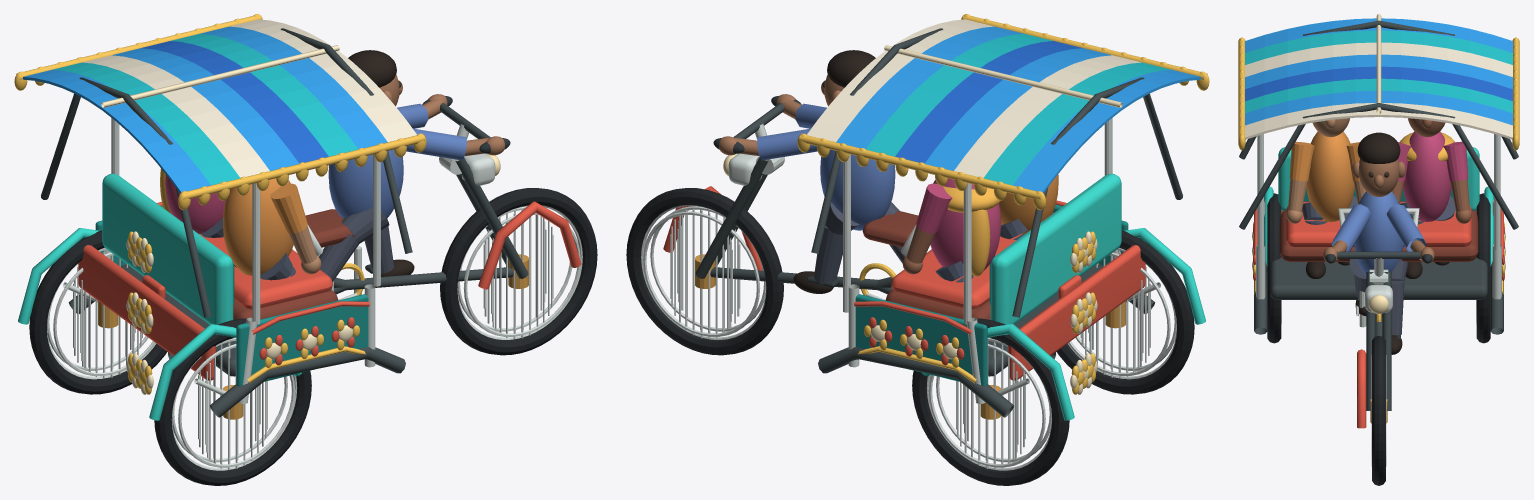
The model's file is cycle-rickshaw.glb.
3 views of the same model, side by side, from view 1: azimuth 30°, elevation 25°; view 2: azimuth 150°, elevation 25°; view 3: azimuth 270°, elevation 25° (orthographic). The views are drawn at different scales.
Visible parts, largest first — view 1: Rickshaw_Canopy blue, Rickshaw_Hand-painted turquoise, Rickshaw_Vermilion lacquer, Rickshaw_Frame | enamelled graphite, Rickshaw_Canopy turquoise, Rickshaw_Canopy ivory, Rickshaw_Folk-art gold, wheel_front_rubber_tire, wheel_front_Bright nickel and spokes, Rickshaw_Bright nickel and spokes, Rickshaw_Passenger | saffron cotton, wheel_rear_left_Bright nickel and spokes (+14 smaller); view 2: Rickshaw_Canopy blue, Rickshaw_Hand-painted turquoise, Rickshaw_Frame | enamelled graphite, Rickshaw_Vermilion lacquer, Rickshaw_Canopy turquoise, Rickshaw_Canopy ivory, Rickshaw_Folk-art gold, wheel_front_rubber_tire, wheel_front_Bright nickel and spokes, Rickshaw_Bright nickel and spokes, wheel_rear_right_Bright nickel and spokes, wheel_rear_right_rubber_tire (+15 smaller); view 3: Rickshaw_Frame | enamelled graphite, Rickshaw_Canopy blue, Rickshaw_Canopy ivory, Rickshaw_Canopy turquoise, Rickshaw_Passenger | saffron cotton, Rickshaw_Passenger | rose cotton, Rickshaw_Driver | indigo cotton shirt, Rickshaw_Vermilion lacquer, Rickshaw_Bright nickel and spokes, Hand-stitched canopy panel.004, wheel_front_rubber_tire, Rickshaw_Natural dark hair (+13 smaller).
Part boxes in pixels (x1=…): Rickshaw_Canopy blue: x1=23, y1=26, x2=387, y2=192; Rickshaw_Hand-painted turquoise: x1=18, y1=173, x2=301, y2=420; Rickshaw_Vermilion lacquer: x1=78, y1=201, x2=581, y2=380; Rickshaw_Frame | enamelled graphite: x1=41, y1=28, x2=528, y2=417; Rickshaw_Canopy turquoise: x1=53, y1=33, x2=358, y2=185; Rickshaw_Canopy ivory: x1=82, y1=19, x2=416, y2=177; Rickshaw_Folk-art gold: x1=14, y1=14, x2=426, y2=394; wheel_front_rubber_tire: x1=440, y1=188, x2=597, y2=355; wheel_front_Bright nickel and spokes: x1=457, y1=205, x2=582, y2=339; Rickshaw_Bright nickel and spokes: x1=63, y1=118, x2=495, y2=403; Rickshaw_Passenger | saffron cotton: x1=223, y1=178, x2=307, y2=275; wheel_rear_left_Bright nickel and spokes: x1=171, y1=337, x2=297, y2=470; Rickshaw_Canopy blue: x1=836, y1=26, x2=1200, y2=192; Rickshaw_Hand-painted turquoise: x1=922, y1=173, x2=1205, y2=420; Rickshaw_Frame | enamelled graphite: x1=695, y1=28, x2=1182, y2=417; Rickshaw_Vermilion lacquer: x1=663, y1=186, x2=1145, y2=380; Rickshaw_Canopy turquoise: x1=865, y1=33, x2=1170, y2=185; Rickshaw_Canopy ivory: x1=807, y1=19, x2=1141, y2=177; Rickshaw_Folk-art gold: x1=797, y1=14, x2=1209, y2=394; wheel_front_rubber_tire: x1=626, y1=188, x2=783, y2=355; wheel_front_Bright nickel and spokes: x1=641, y1=205, x2=766, y2=339; Rickshaw_Bright nickel and spokes: x1=728, y1=118, x2=1160, y2=403; wheel_rear_right_Bright nickel and spokes: x1=926, y1=337, x2=1052, y2=470; wheel_rear_right_rubber_tire: x1=912, y1=318, x2=1069, y2=485; Rickshaw_Frame | enamelled graphite: x1=1239, y1=20, x2=1518, y2=410; Rickshaw_Canopy blue: x1=1245, y1=18, x2=1512, y2=125; Rickshaw_Canopy ivory: x1=1245, y1=42, x2=1512, y2=139; Rickshaw_Canopy turquoise: x1=1245, y1=30, x2=1512, y2=113; Rickshaw_Passenger | saffron cotton: x1=1289, y1=131, x2=1359, y2=221; Rickshaw_Passenger | rose cotton: x1=1398, y1=131, x2=1468, y2=221; Rickshaw_Driver | indigo cotton shirt: x1=1331, y1=191, x2=1426, y2=276; Rickshaw_Vermilion lacquer: x1=1253, y1=201, x2=1504, y2=428; Rickshaw_Bright nickel and spokes: x1=1256, y1=134, x2=1501, y2=316; Hand-stitched canopy panel.004: x1=1245, y1=66, x2=1512, y2=101; wheel_front_rubber_tire: x1=1372, y1=336, x2=1385, y2=485; Rickshaw_Natural dark hair: x1=1305, y1=132, x2=1449, y2=354.
Size of the model in its own units: 3.69 by 2.45 by 2.1.
